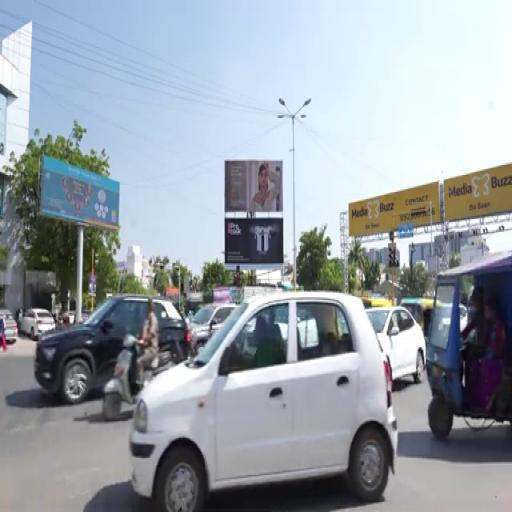Car: (130, 292, 397, 511), (35, 295, 148, 403), (367, 306, 425, 382), (190, 303, 235, 351), (20, 309, 55, 339), (0, 309, 17, 344), (459, 305, 467, 331)
